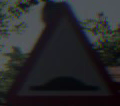Speed Breaker ahead: (12, 10, 102, 98)
